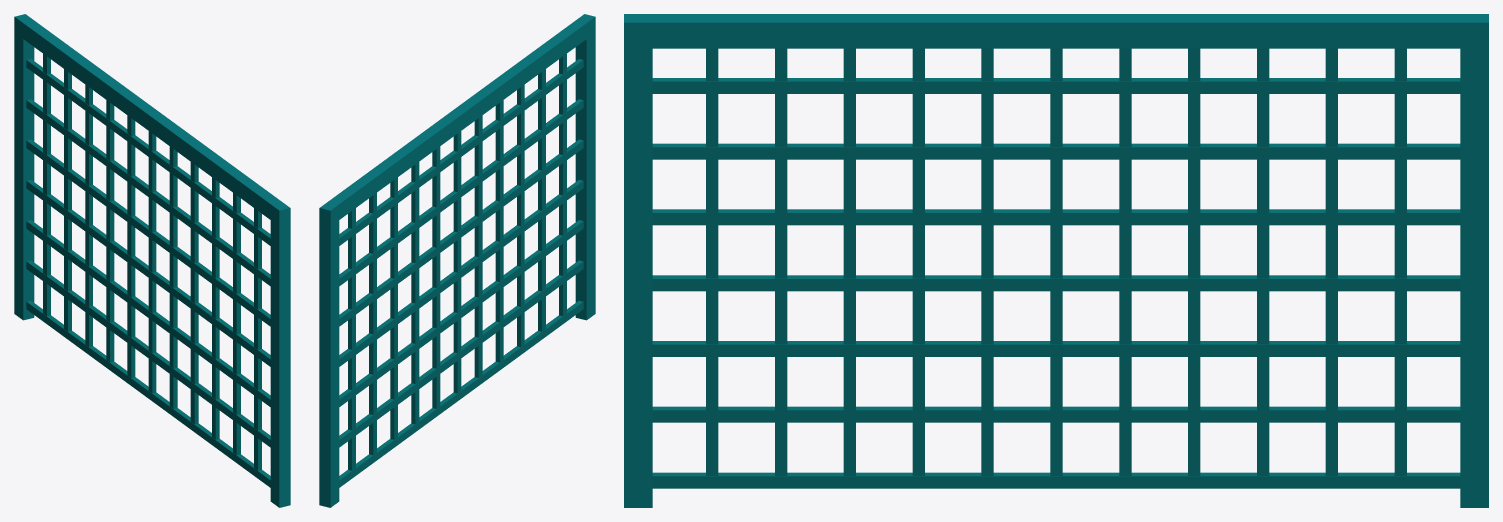
Rendered from Fence_1_C_3.fbx.
The picture shows the model from 3 angles, left to right: view 1: azimuth 30°, elevation 25°; view 2: azimuth 150°, elevation 25°; view 3: azimuth 270°, elevation 25°; orthographic projection. The views are drawn at different scales.
Visible parts, largest first — view 1: Fence_1_C_3; view 2: Fence_1_C_3; view 3: Fence_1_C_3.
Boxes of the visible parts, bbox=[...] form: Fence_1_C_3: bbox=[14, 14, 290, 507]; Fence_1_C_3: bbox=[319, 14, 595, 507]; Fence_1_C_3: bbox=[624, 14, 1488, 507].
Bounding box in the file's own units: 9.6 × 248 × 400.
